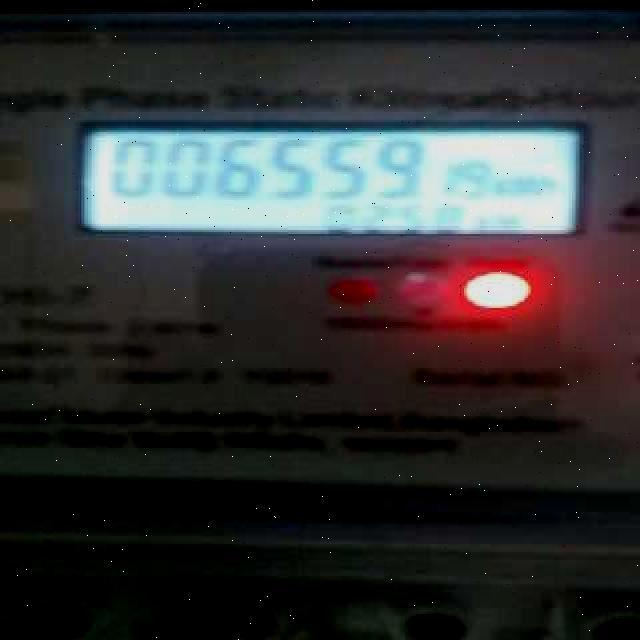LCD: (60, 103, 610, 258)
